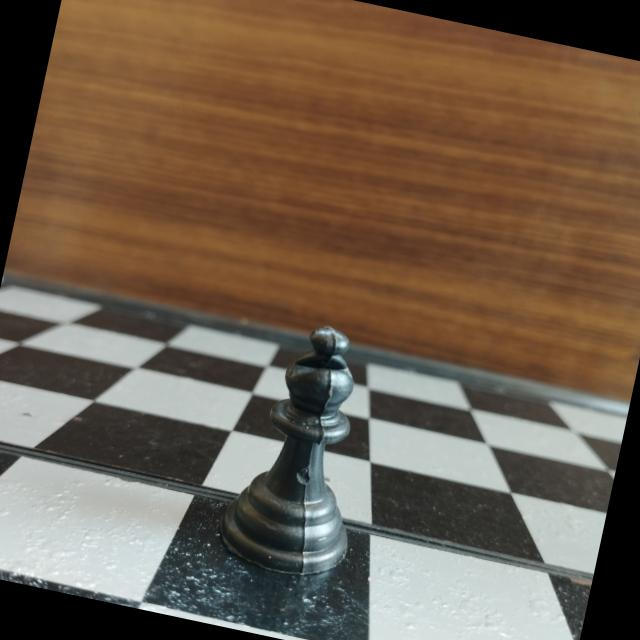Black Bishop: (204, 302, 406, 594)
